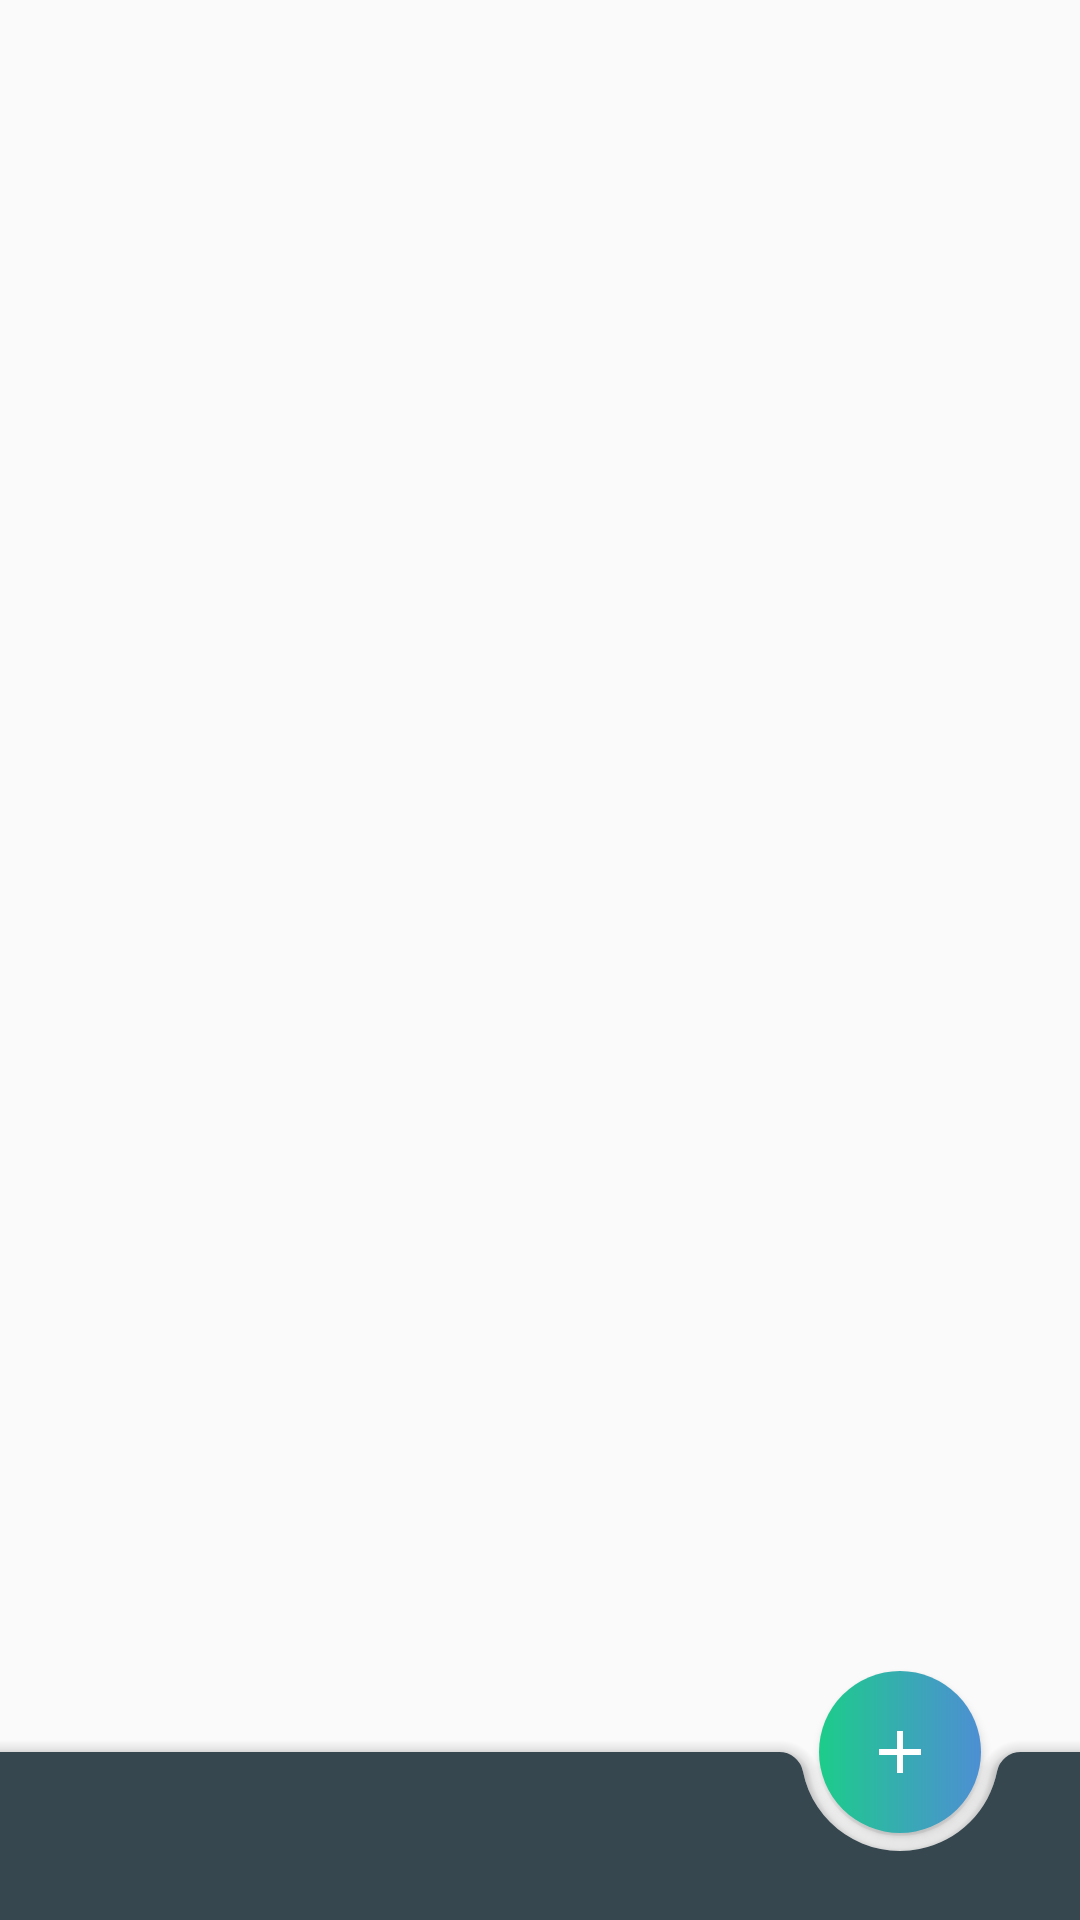

Screen size 1080*1920. Icon name, then its center in pixels as (x,y):
fab: (900,1752)
